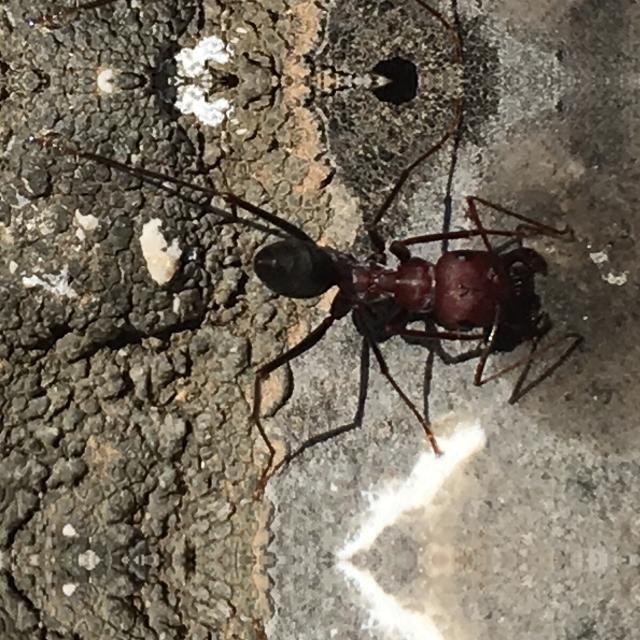Cataglyphis: (205, 182, 579, 384)
